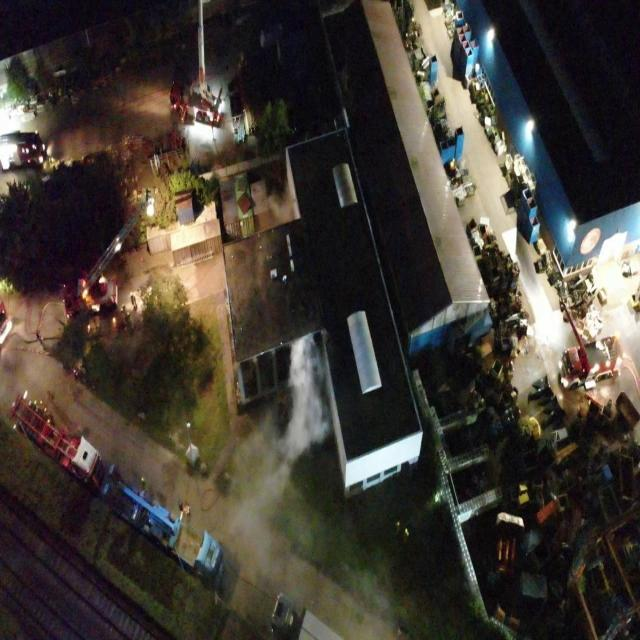Smoke: (218, 333, 392, 640), (264, 190, 296, 228)
